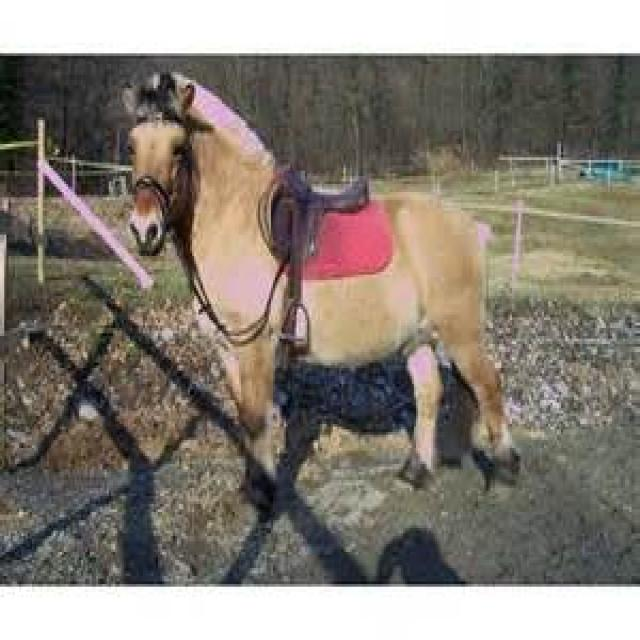horse: (119, 72, 523, 491)
